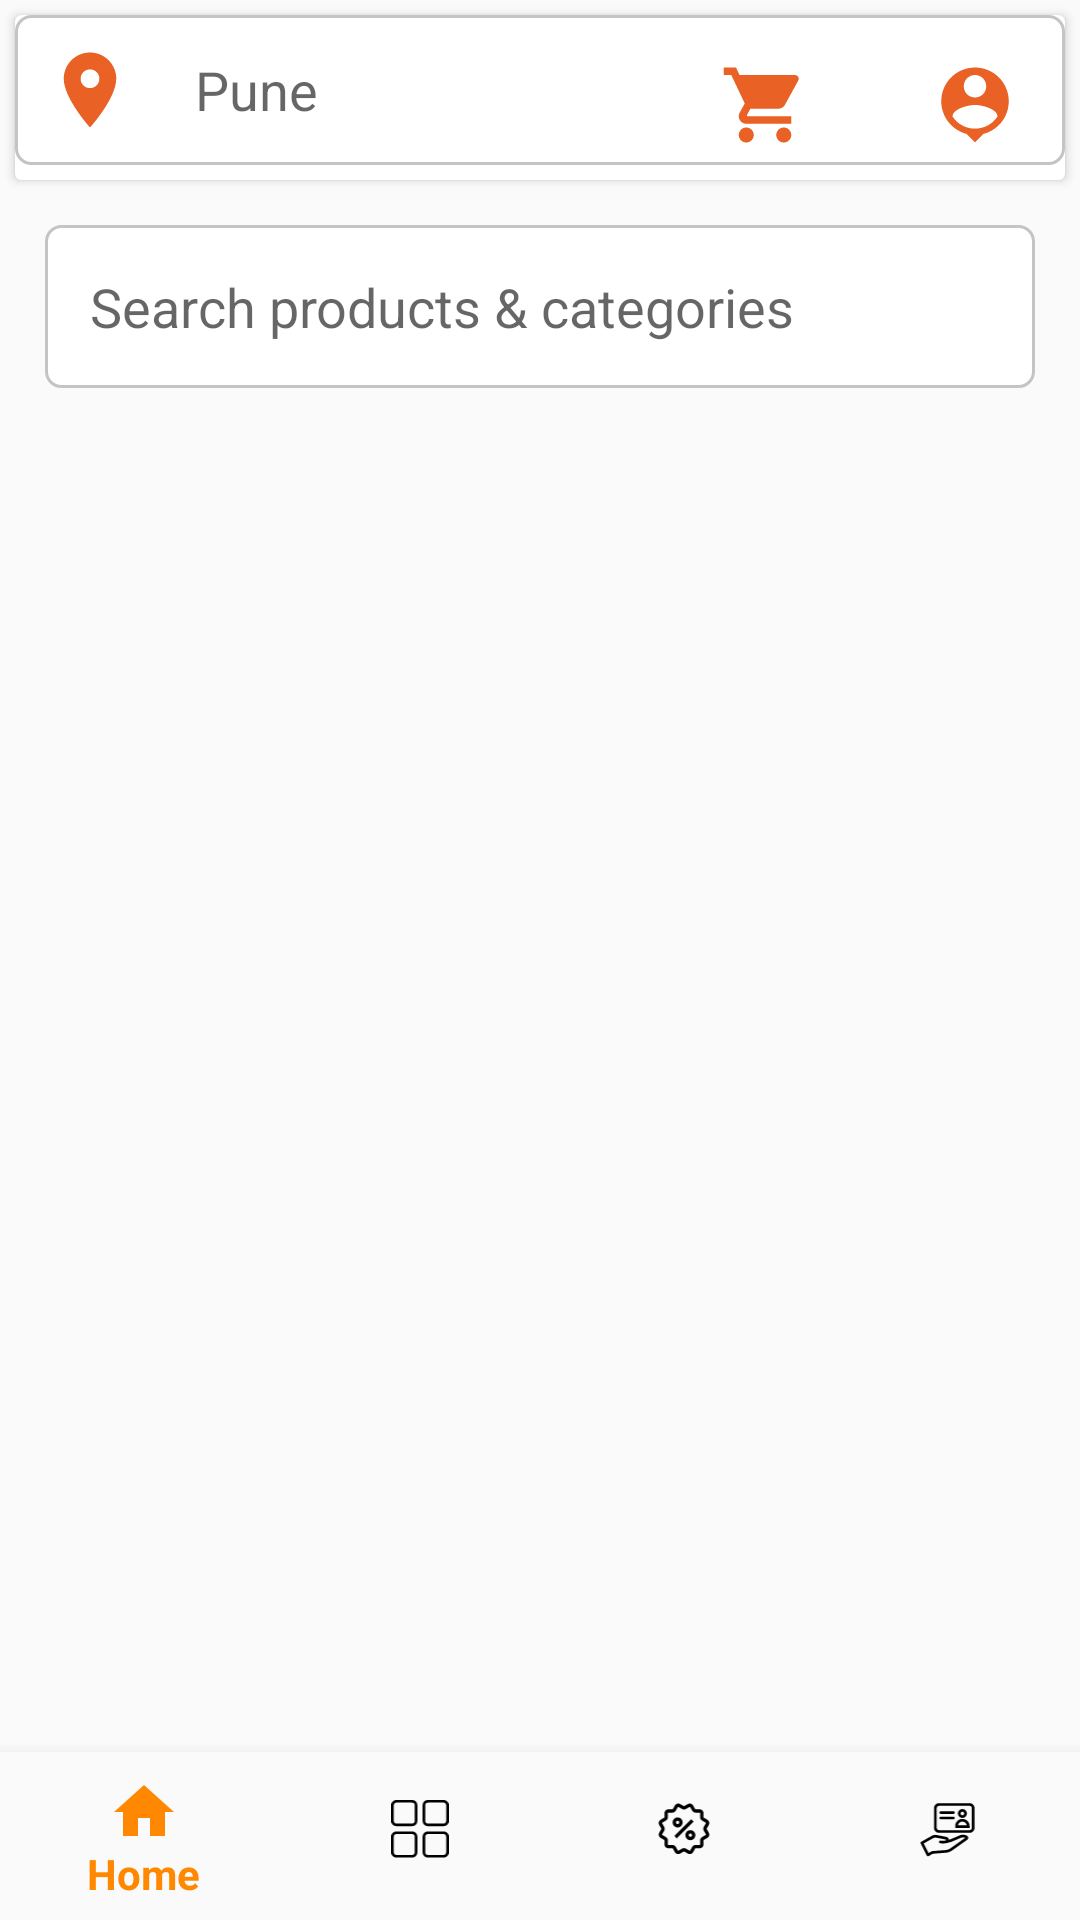

Icon click points for this 1080 x 1920 phone screenshot, format (x=x, y=y):
person pin: (x=975, y=104)
shopping cart: (x=761, y=105)
